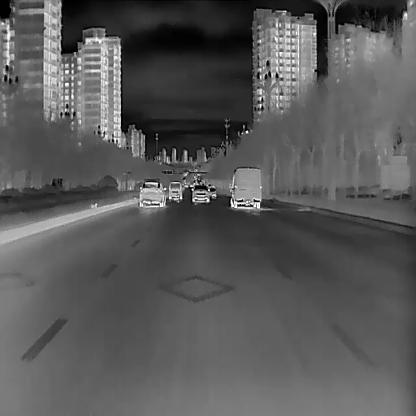car: (228, 166, 260, 208), (137, 180, 166, 209), (191, 185, 210, 203), (167, 181, 181, 202), (209, 185, 217, 199)
